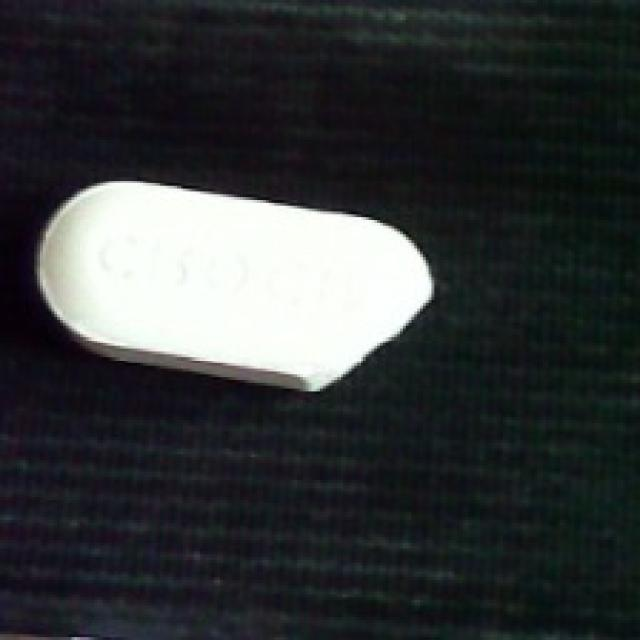defected: (29, 174, 434, 394)
